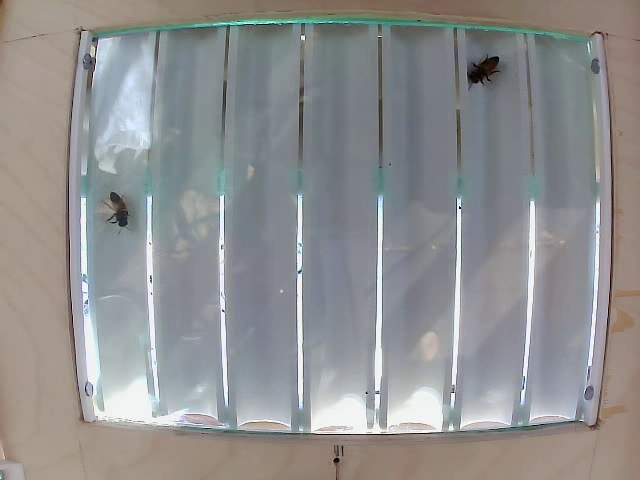bee: (99, 186, 136, 241), (468, 52, 504, 93)
